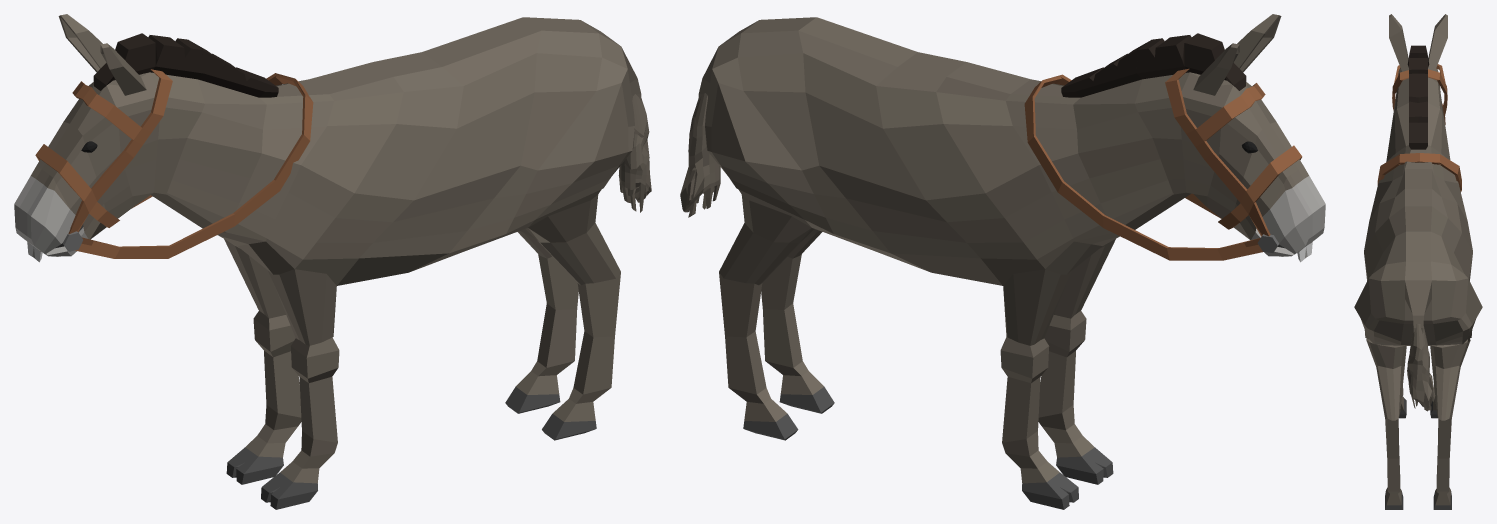
File: Ezel.fbx
3 views of the same model, side by side, from view 1: azimuth 30°, elevation 25°; view 2: azimuth 150°, elevation 25°; view 3: azimuth 270°, elevation 25° (orthographic). The views are drawn at different scales.
Visible parts, largest first — view 1: Ezel, Hoofdstel.001, Cylinder; view 2: Ezel, Hoofdstel.001, Cylinder; view 3: Ezel, Cylinder, Hoofdstel.001.
Boxes of the visible parts, x1,y1,x2,y2 form: Ezel: (14,14,641,509); Hoofdstel.001: (35,69,313,258); Cylinder: (618,94,651,212); Ezel: (698,14,1325,509); Hoofdstel.001: (1024,68,1302,260); Cylinder: (680,93,720,217); Ezel: (1354,14,1482,509); Cylinder: (1407,324,1435,411); Hoofdstel.001: (1377,64,1461,191).
Bounding box in the file's own units: 235 × 180 × 61.97.
